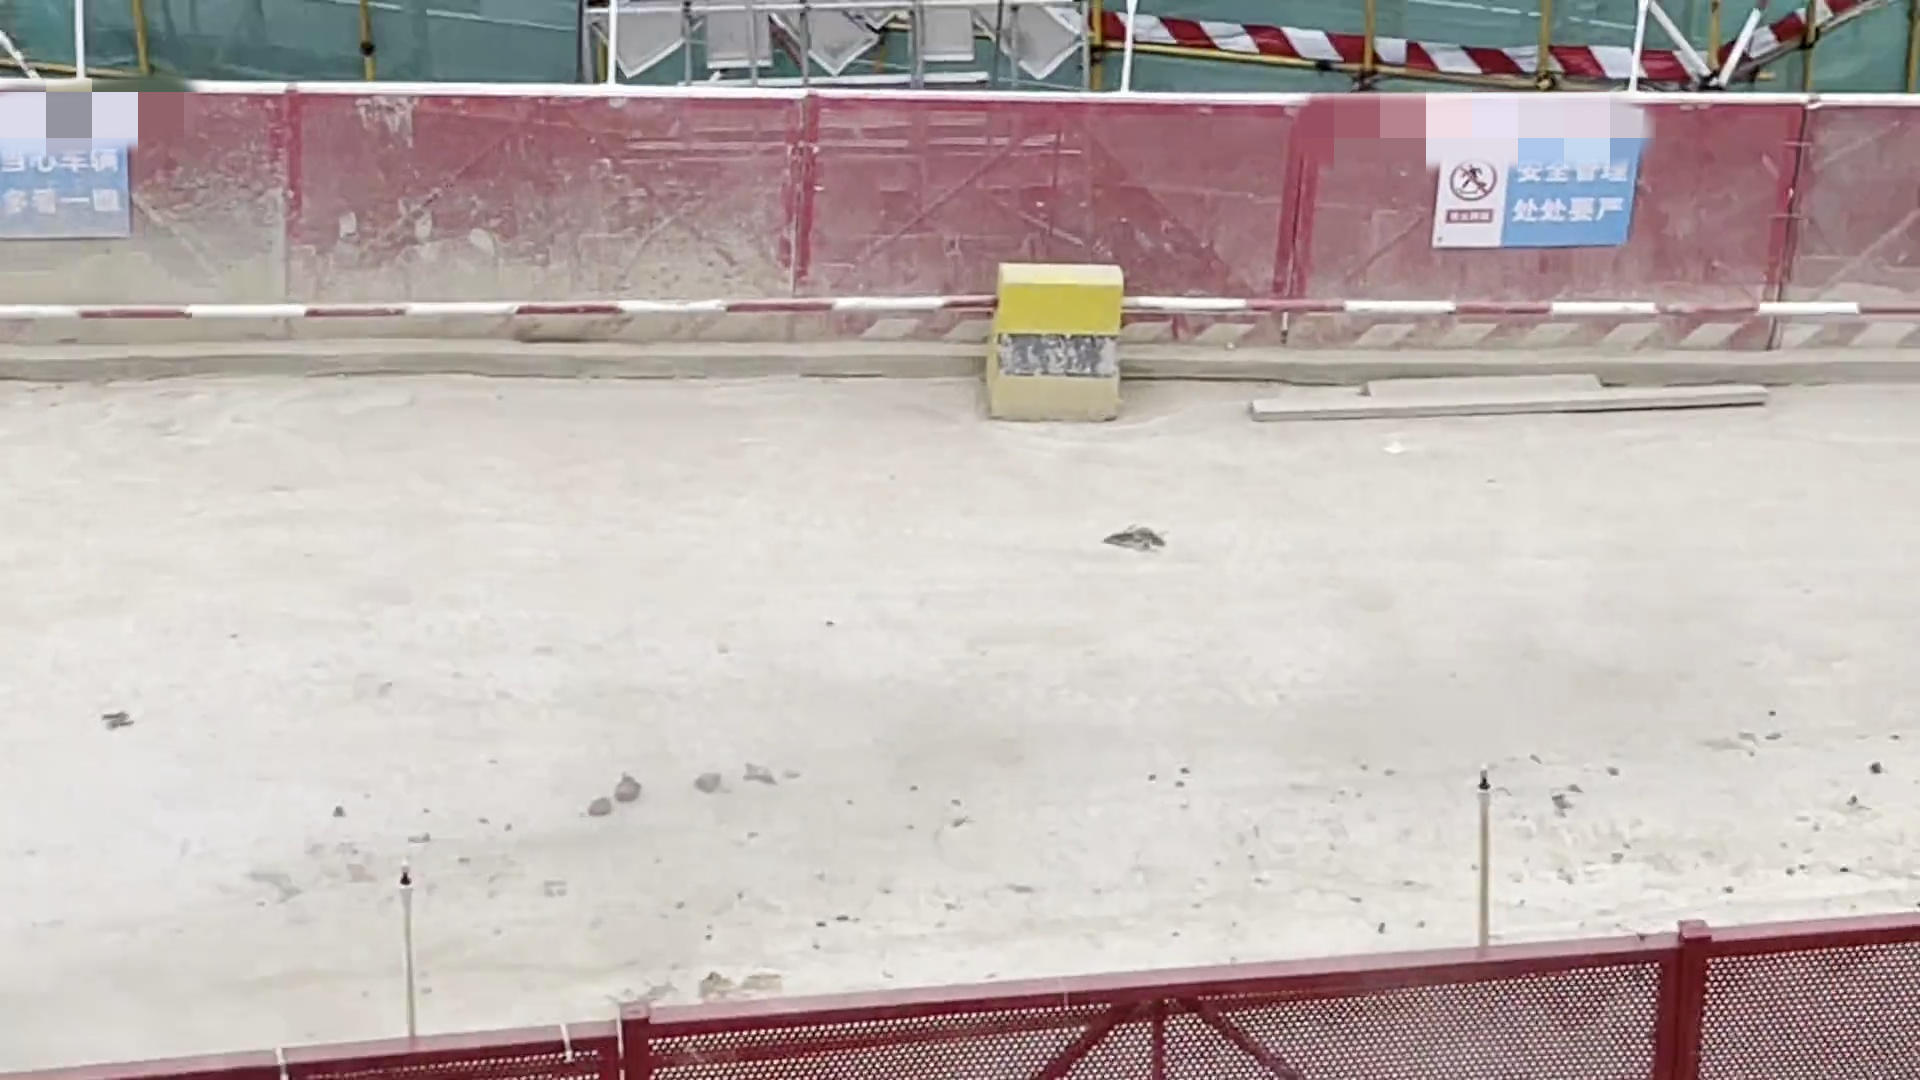fence: (1, 47, 1801, 351)
slogan: (1331, 70, 1615, 257), (1, 83, 146, 245)
